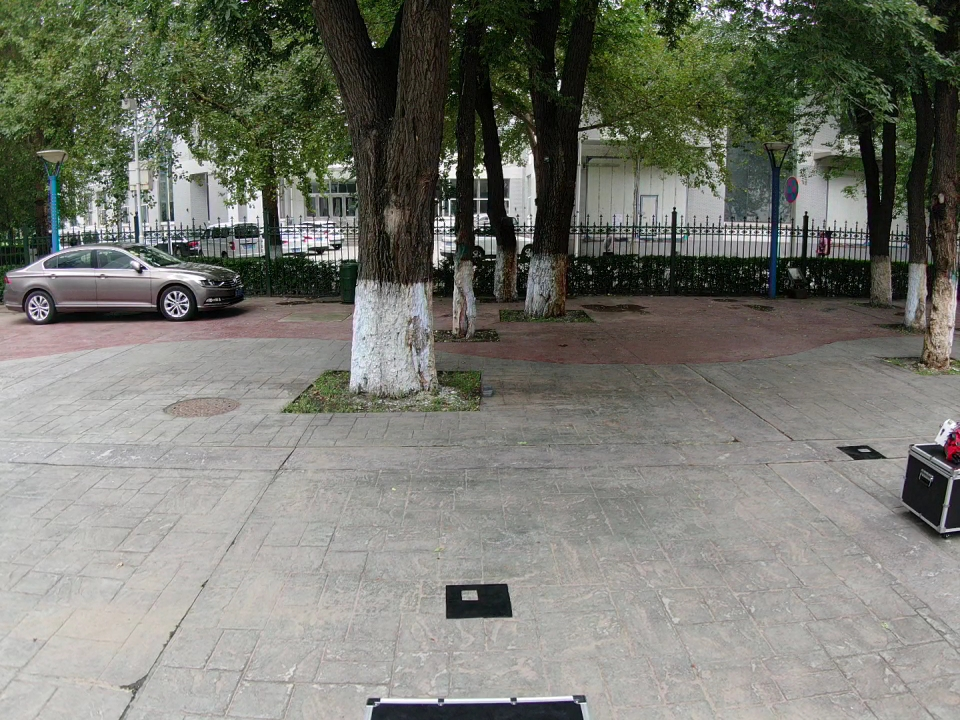qrcode: (446, 584, 512, 619), (837, 445, 888, 461)
